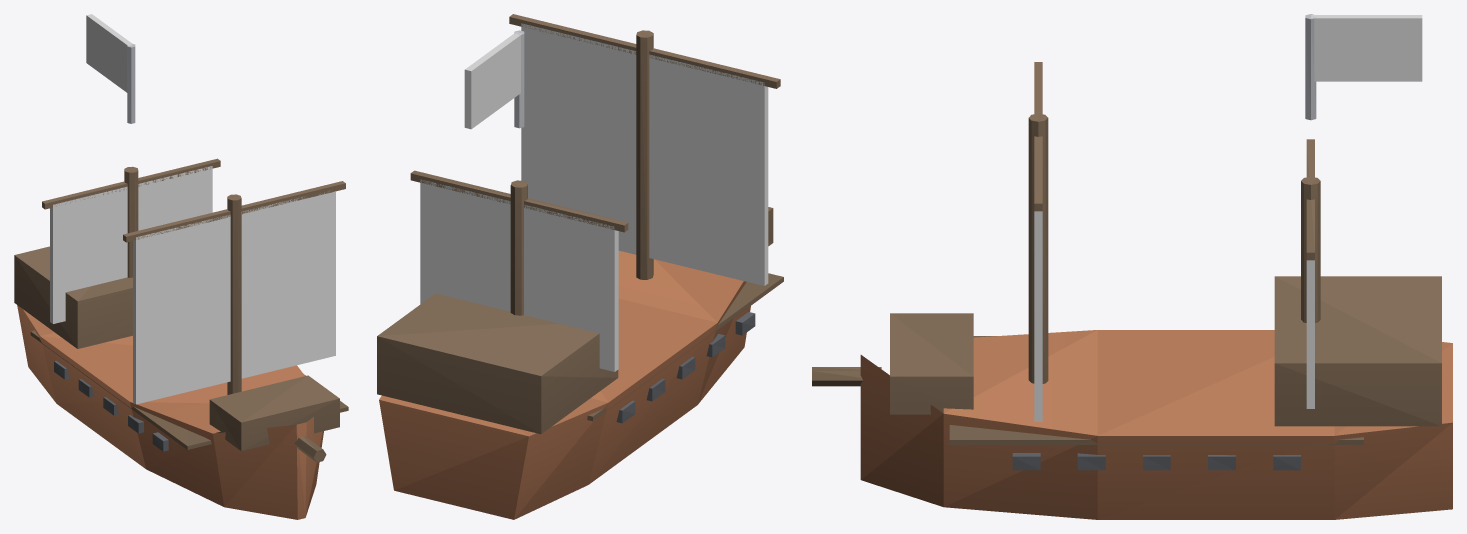
Rendered from Sea Beggar.glb.
3 renders of one model, left to right at view 1: azimuth 30°, elevation 25°; view 2: azimuth 150°, elevation 25°; view 3: azimuth 270°, elevation 25°, orthographic. The views are drawn at different scales.
Parts seen in each view (by area): view 1: Body; view 2: Body; view 3: Body.
Part boxes in pixels (<box>): Body: <box>14,14,348,519</box>; Body: <box>377,14,783,519</box>; Body: <box>812,14,1452,519</box>.
Size of the model in its own units: 0.4811 by 0.73 by 0.92.
